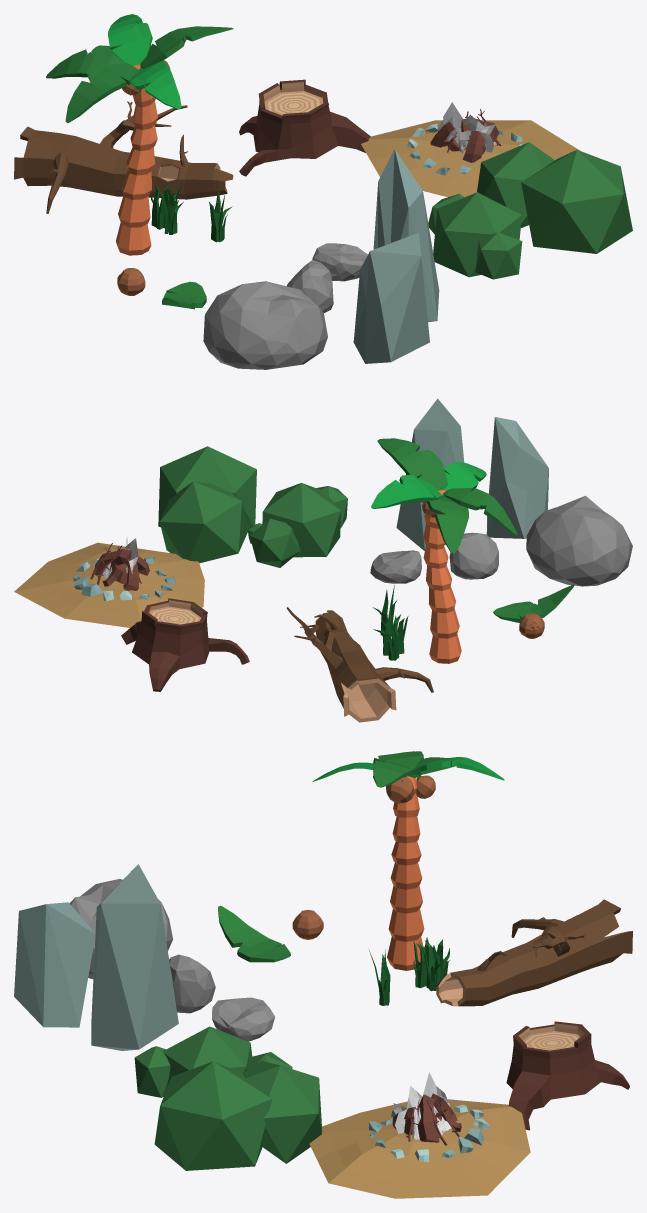
File: StrandedInNowhereAssets 1.fbx
The picture shows the model from 3 angles, top to bottom: view 1: azimuth 30°, elevation 25°; view 2: azimuth 150°, elevation 25°; view 3: azimuth 270°, elevation 25°; orthographic projection. The views are drawn at different scales.
Parts seen in each view (by area): view 1: Palmtree, Busch klein, Lagerfeuer, Baumstamm, Stein groß, Icosphere.001, Baumstamm abgeholzt, Busch groß, Icosphere, Stein klein, Stein mittel, Grasbüschel groß (+3 smaller); view 2: Lagerfeuer, Palmtree, Busch klein, Stein groß, Busch groß, Baumstamm abgeholzt, Baumstamm, Icosphere.001, Icosphere, Stein mittel, Stein klein, Palmleaf (+2 smaller); view 3: Lagerfeuer, Busch klein, Icosphere, Baumstamm, Palmtree, Icosphere.001, Baumstamm abgeholzt, Busch groß, Stein klein, Stein mittel, Palmleaf, Stein groß (+2 smaller).
Boxes of the visible parts, x1,y1,x2,y2 form: Palmtree: (46, 14, 233, 255); Busch klein: (477, 142, 632, 253); Lagerfeuer: (361, 102, 580, 197); Baumstamm: (14, 101, 233, 213); Stein groß: (203, 281, 327, 369); Icosphere.001: (353, 232, 429, 363); Baumstamm abgeholzt: (239, 79, 370, 176); Busch groß: (428, 192, 522, 279); Icosphere: (373, 149, 439, 322); Stein klein: (312, 243, 367, 281); Stein mittel: (287, 260, 333, 312); Grasbüschel groß: (150, 181, 183, 234); Lagerfeuer: (14, 536, 204, 627); Palmtree: (371, 438, 517, 663); Busch klein: (158, 446, 256, 563); Stein groß: (526, 495, 632, 586); Busch groß: (247, 483, 347, 567); Baumstamm abgeholzt: (121, 598, 249, 691); Baumstamm: (286, 607, 433, 722); Icosphere.001: (486, 417, 548, 538); Icosphere: (396, 398, 464, 550); Stein mittel: (449, 532, 498, 579); Stein klein: (370, 550, 421, 583); Palmleaf: (493, 584, 574, 622); Lagerfeuer: (309, 1072, 530, 1198); Busch klein: (154, 1061, 322, 1170); Icosphere: (91, 864, 178, 1050); Baumstamm: (435, 899, 632, 1006); Palmtree: (312, 751, 504, 970); Icosphere.001: (14, 902, 95, 1027); Baumstamm abgeholzt: (506, 1021, 629, 1130); Busch groß: (134, 1026, 292, 1097); Stein klein: (212, 997, 274, 1041); Stein mittel: (169, 954, 215, 1013); Palmleaf: (218, 905, 290, 962); Stein groß: (69, 879, 172, 978).
Size of the model in its own units: 3981 by 1685 by 3905.
